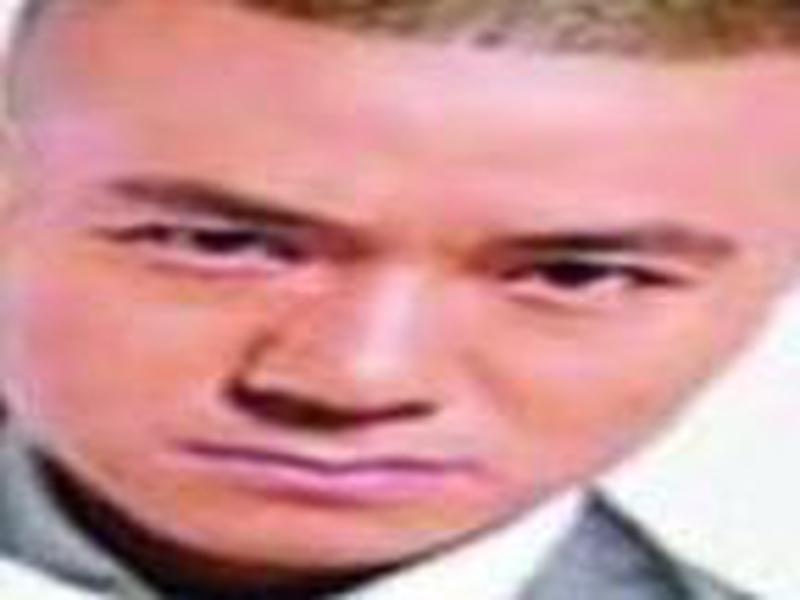without_mask: (12, 10, 799, 572)
